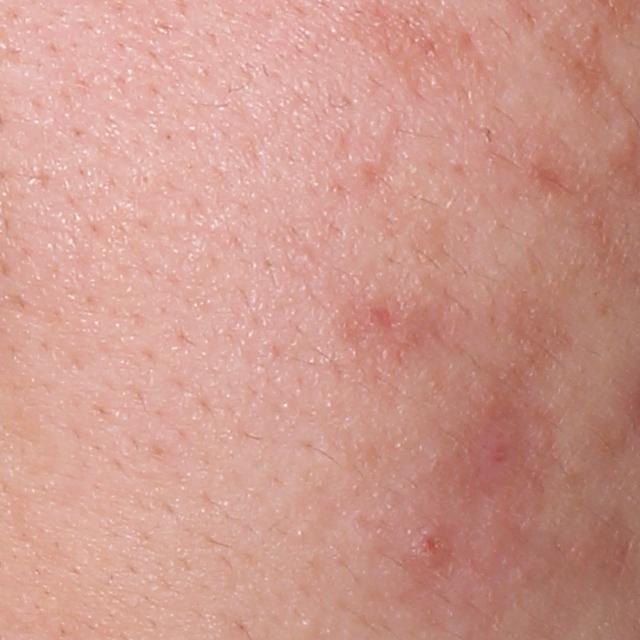atrophic_scar: (368, 303, 396, 334)
papule: (410, 523, 461, 571)
